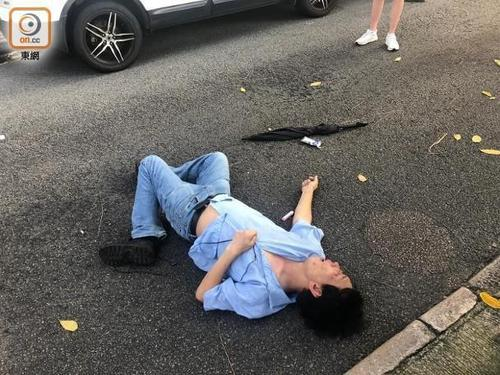down: (98, 150, 366, 345)
